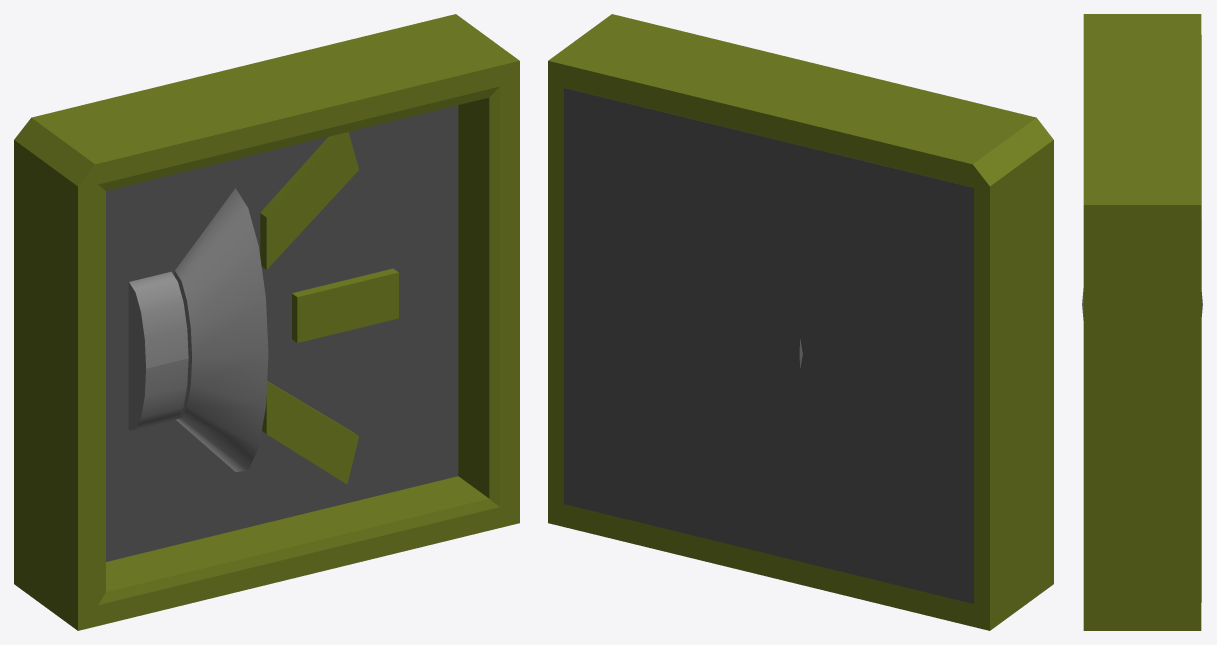
File: SpeakerIcon.glb
The picture shows the model from 3 angles, left to right: view 1: azimuth 30°, elevation 25°; view 2: azimuth 150°, elevation 25°; view 3: azimuth 270°, elevation 25°; orthographic projection. The views are drawn at different scales.
Parts seen in each view (by area): view 1: Cube.001, Cube.010; view 2: Cube.010, Cube.001; view 3: Cube.001, Cube.010.
Boxes of the visible parts, left/top/right/bottom form: Cube.001: left=14, top=14, right=519, bottom=630; Cube.010: left=106, top=105, right=458, bottom=561; Cube.010: left=564, top=88, right=973, bottom=603; Cube.001: left=548, top=14, right=1053, bottom=630; Cube.001: left=1082, top=14, right=1202, bottom=630; Cube.010: left=1201, top=35, right=1201, bottom=602.
Bounding box in the file's own units: 3.99 × 3.99 × 1.03.
